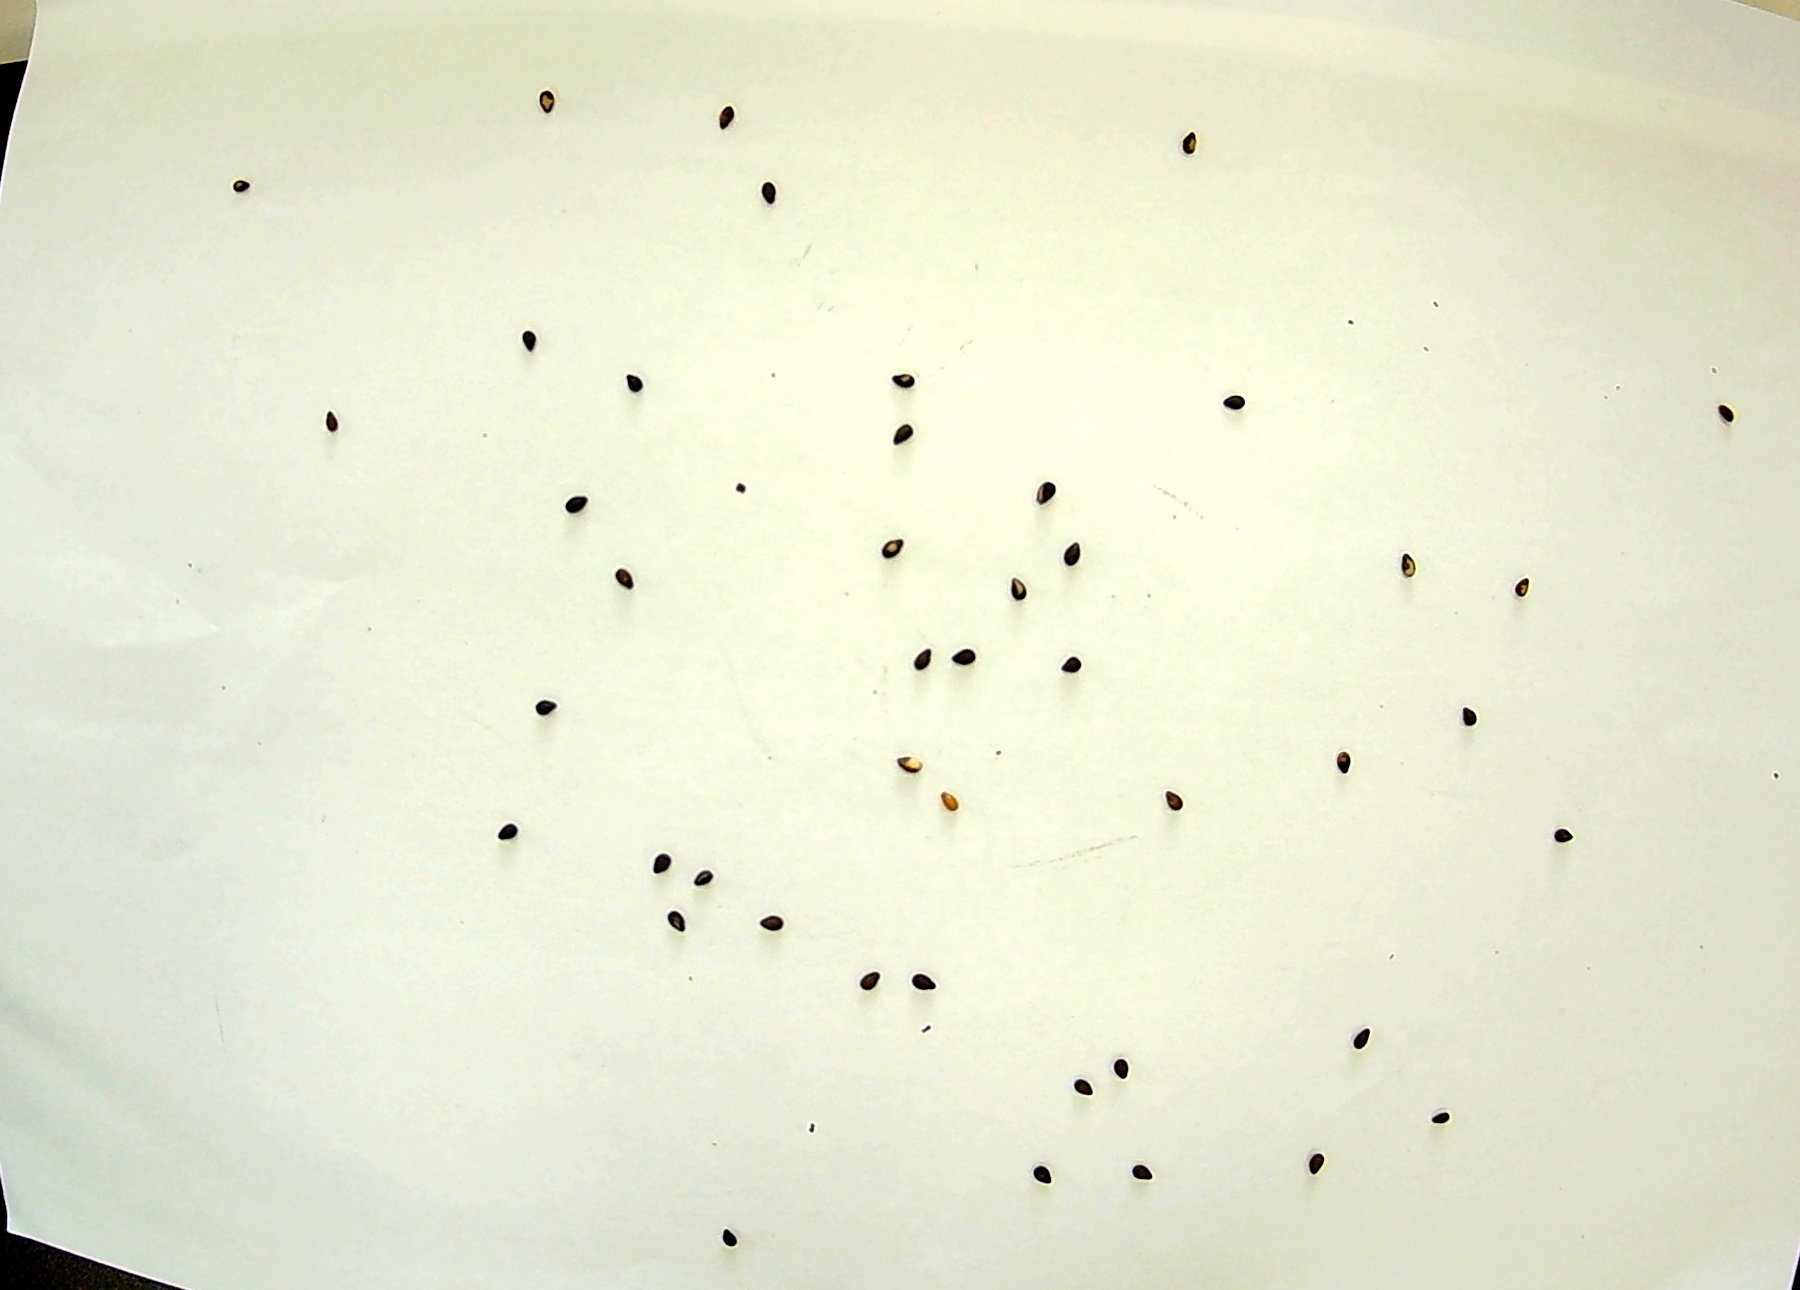sesami: (1341, 1023, 1379, 1060), (1168, 126, 1206, 161), (1713, 392, 1751, 427), (1214, 380, 1252, 415), (896, 374, 933, 409), (1051, 531, 1088, 565), (1441, 692, 1479, 727), (1164, 785, 1201, 820), (1053, 651, 1091, 685), (1007, 577, 1045, 611), (953, 649, 991, 684), (915, 644, 953, 679), (878, 526, 915, 561), (615, 362, 653, 396), (508, 320, 546, 355), (314, 401, 352, 436), (557, 493, 594, 528), (600, 558, 638, 593), (899, 961, 936, 995), (1055, 1072, 1093, 1107), (929, 773, 967, 808), (899, 747, 936, 782), (527, 88, 564, 123), (219, 173, 255, 208), (712, 91, 748, 126), (747, 170, 783, 205), (1508, 563, 1545, 598), (1388, 553, 1425, 588), (885, 410, 921, 445), (1031, 473, 1067, 508), (1546, 815, 1582, 850), (1427, 1096, 1464, 1131), (1299, 1143, 1335, 1178), (1333, 739, 1369, 773), (527, 684, 564, 719), (474, 815, 511, 850), (638, 847, 674, 882), (689, 852, 726, 887), (760, 907, 797, 942), (653, 900, 689, 935), (700, 1226, 737, 1261), (855, 966, 892, 1001), (1112, 1048, 1148, 1083), (1134, 1146, 1171, 1181), (1019, 1157, 1055, 1192)
